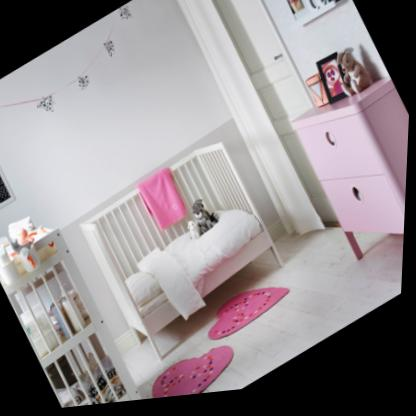Bed: (72, 130, 303, 378)
